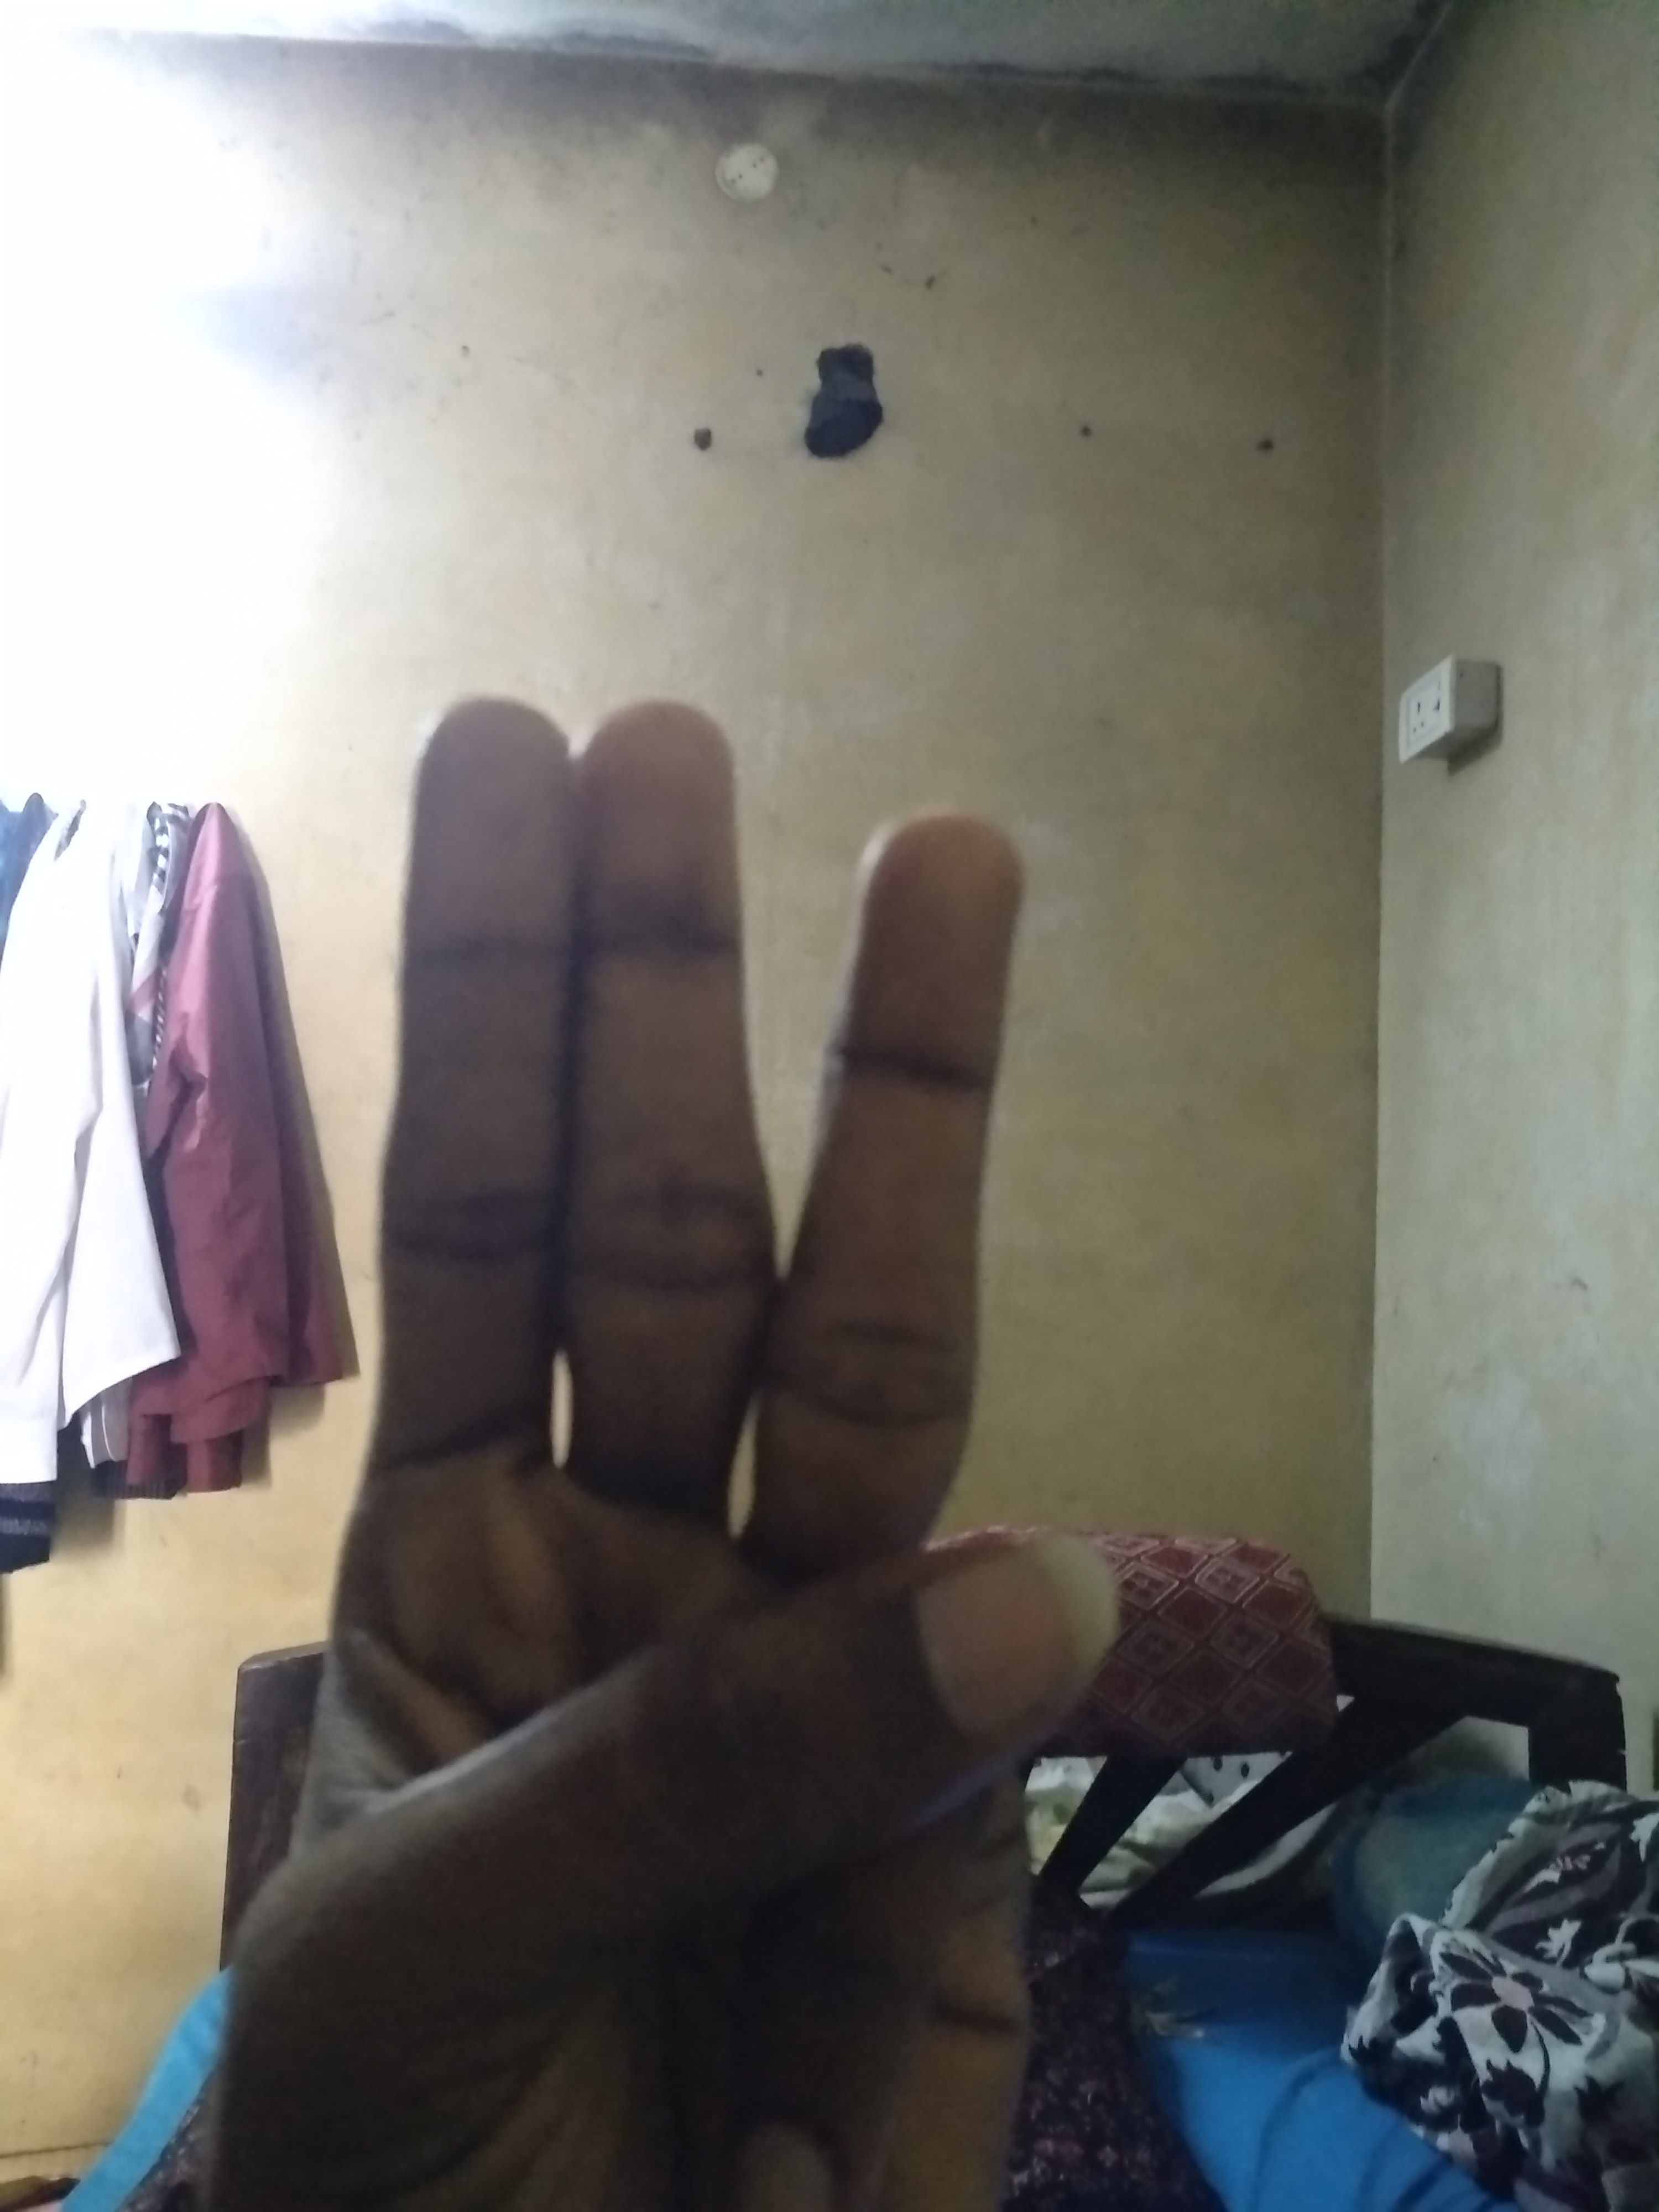three: (385, 686, 636, 899)
